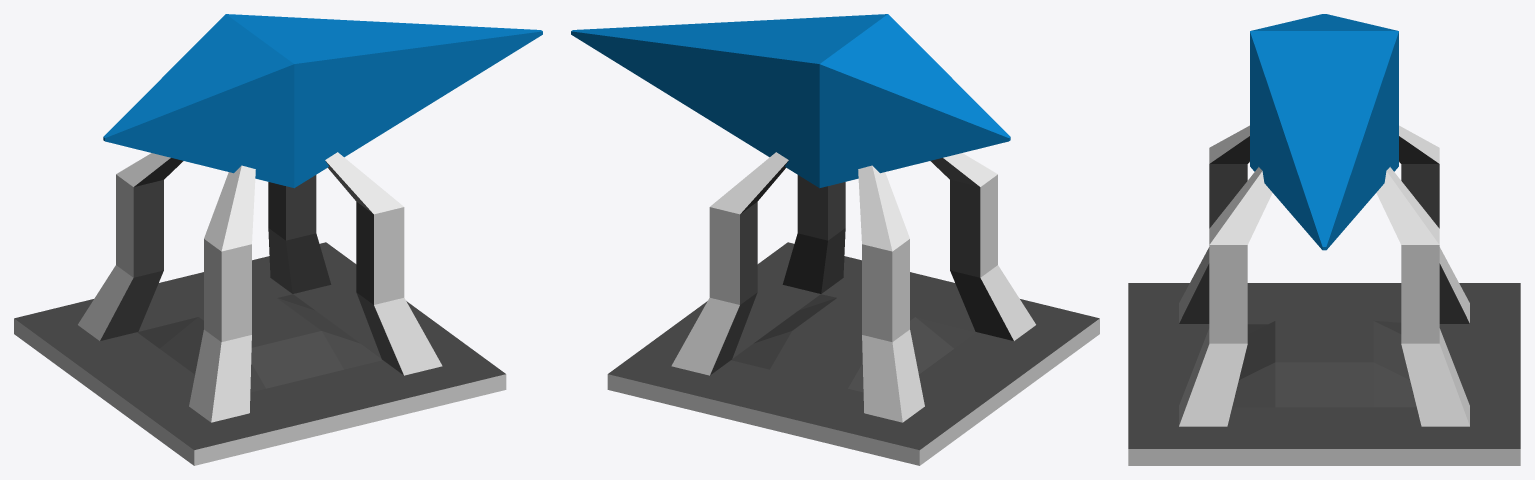
File: gunnerTower.fbx
3 renders of one model, left to right at view 1: azimuth 30°, elevation 25°; view 2: azimuth 150°, elevation 25°; view 3: azimuth 270°, elevation 25°, orthographic. The views are drawn at different scales.
Visible parts, largest first — view 1: Cube.001, Cube; view 2: Cube.001, Cube; view 3: Cube.001, Cube.
Part boxes in pixels (box(x1,y1,x2,y2)): Cube.001: box(14, 152, 506, 465); Cube: box(103, 14, 542, 188); Cube.001: box(607, 152, 1099, 465); Cube: box(571, 14, 1010, 188); Cube.001: box(1128, 125, 1520, 465); Cube: box(1250, 14, 1398, 250).
Size of the model in its own units: 281 by 198 by 200.
